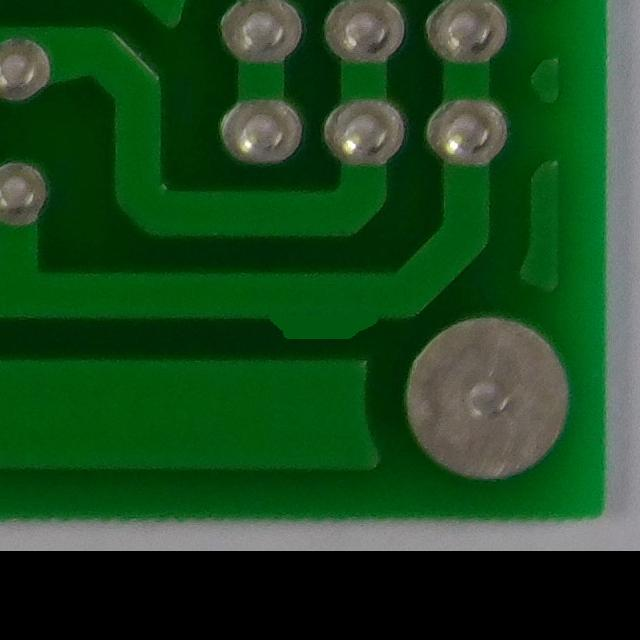spur: (245, 288, 396, 353)
